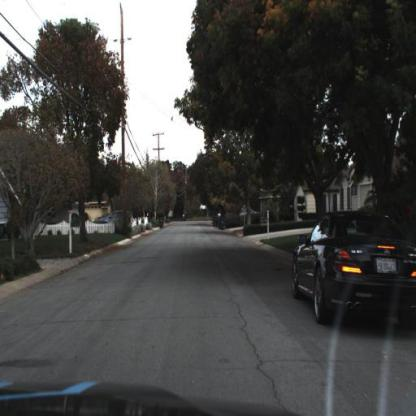car: (292, 212, 416, 330), (95, 207, 140, 231)
